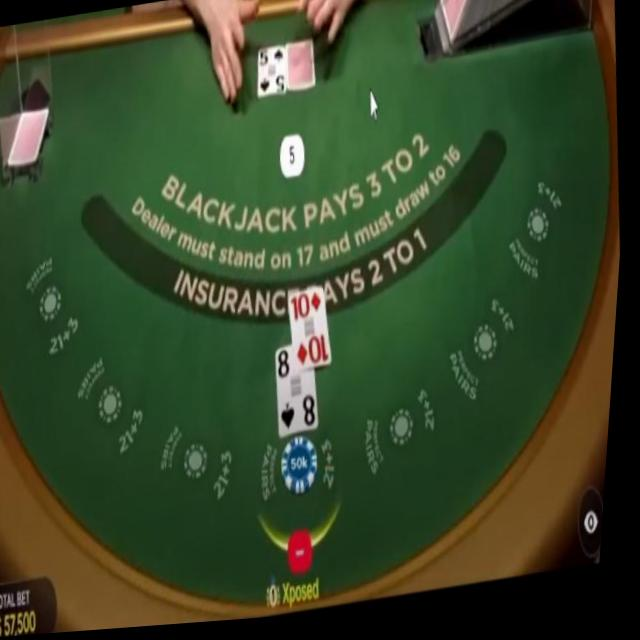Card-10: (291, 286, 336, 371)
Card-5: (259, 49, 287, 100)
Card-8: (280, 349, 324, 441)
